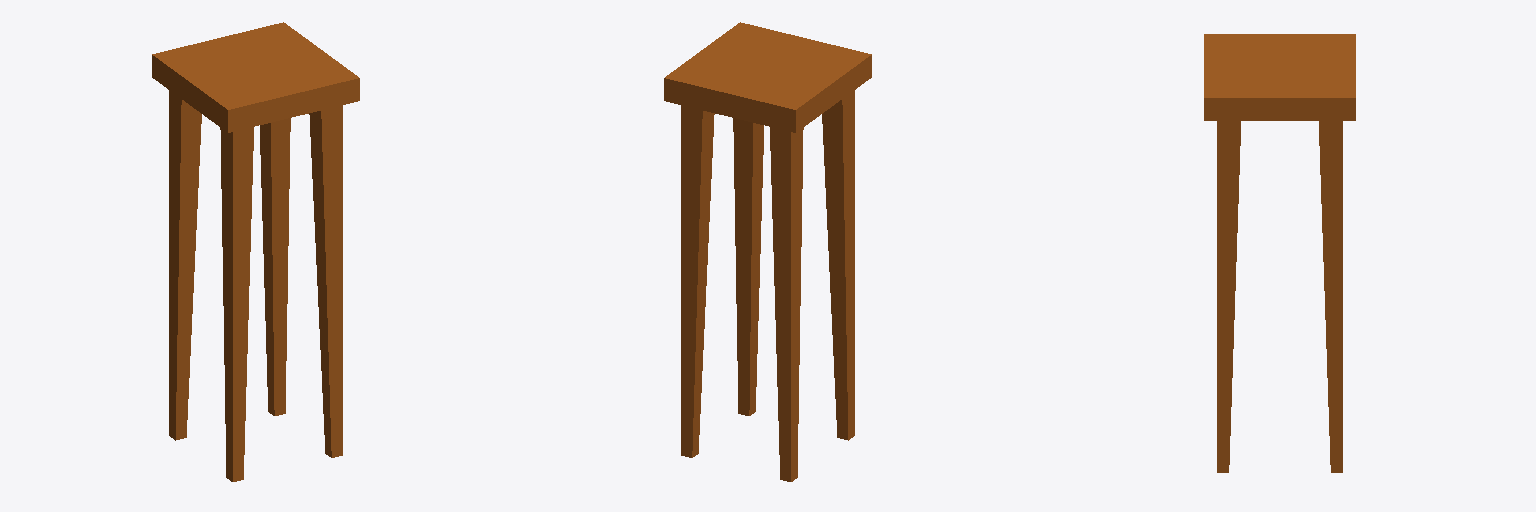
File: side-table.obj
3 renders of one model, left to right at view 1: azimuth 30°, elevation 25°; view 2: azimuth 150°, elevation 25°; view 3: azimuth 270°, elevation 25°, orthographic.
Parts seen in each view (by area): view 1: Mesh1 Model; view 2: Mesh1 Model; view 3: Mesh1 Model.
Part boxes in pixels (left/top/right/bottom): Mesh1 Model: left=152, top=22, right=359, bottom=481; Mesh1 Model: left=664, top=22, right=871, bottom=481; Mesh1 Model: left=1204, top=34, right=1355, bottom=472.
Size of the model in its own units: 0.3048 by 0.8382 by 0.3048.